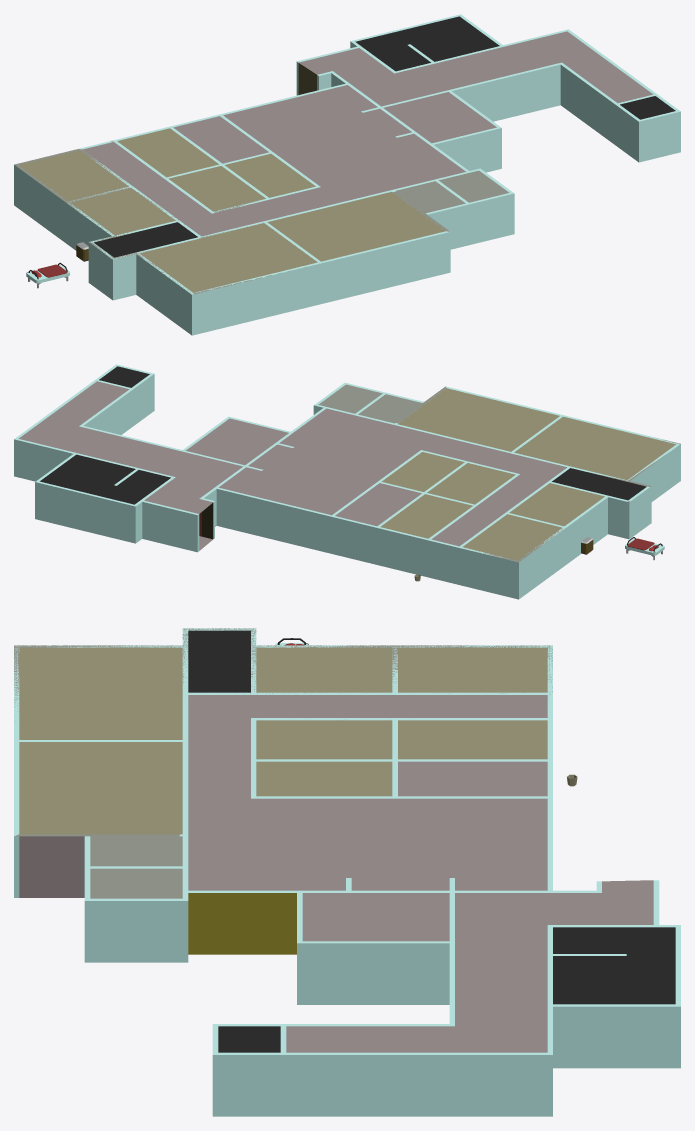
3 views of the same model, one above another, from view 1: azimuth 30°, elevation 25°; view 2: azimuth 150°, elevation 25°; view 3: azimuth 270°, elevation 25° (orthographic). The views are drawn at different scales.
Parts seen in each view (by area): view 1: Roof, Walls, bed_1; view 2: Roof, Walls, bed_1; view 3: Roof, Walls.
Part boxes in pixels (box(x1,y1,x2,y2)): Roof: box(14, 16, 675, 294); Walls: box(14, 14, 680, 335); bed_1: box(26, 262, 69, 288); Roof: box(19, 366, 680, 562); Walls: box(14, 364, 680, 599); bed_1: box(625, 537, 664, 560); Roof: box(14, 628, 675, 1052); Walls: box(14, 628, 680, 1116).
Size of the model in its own units: 4004 by 259 by 2450.
Materials: 1 (1 with a texture image).
